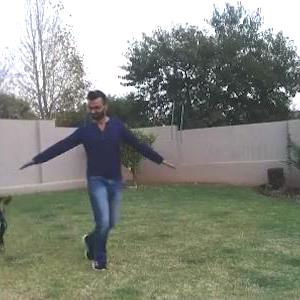land: (30, 98, 172, 255)
